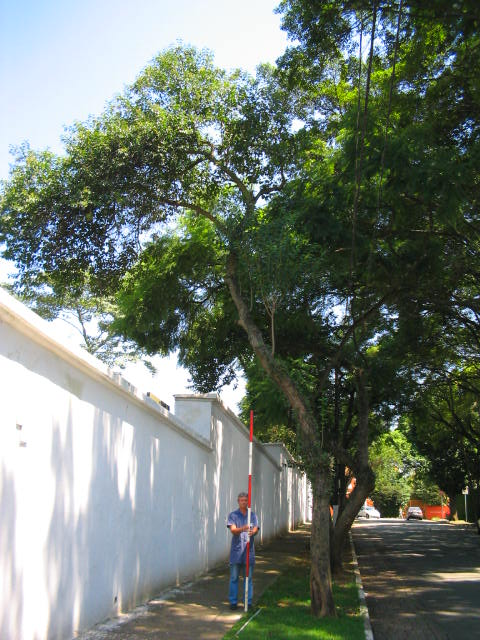crown: (4, 40, 474, 394)
stem: (257, 365, 345, 618)
stick: (234, 411, 258, 610)
tree: (3, 41, 475, 620)
